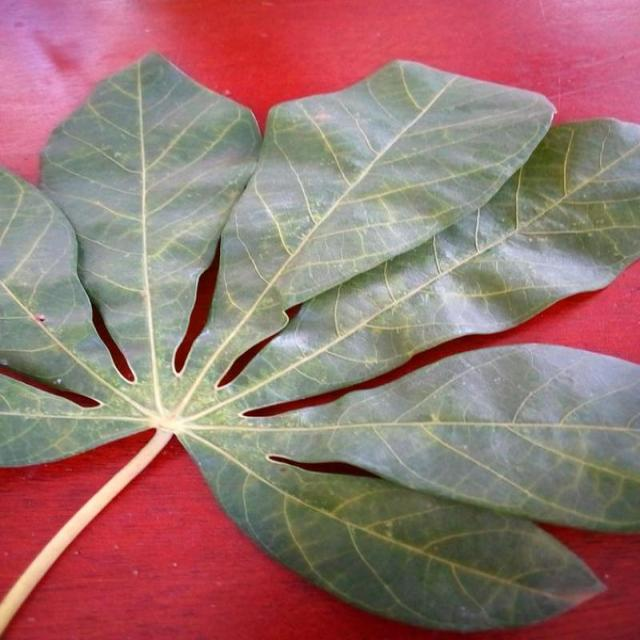cassava leaf: (2, 49, 640, 634)
